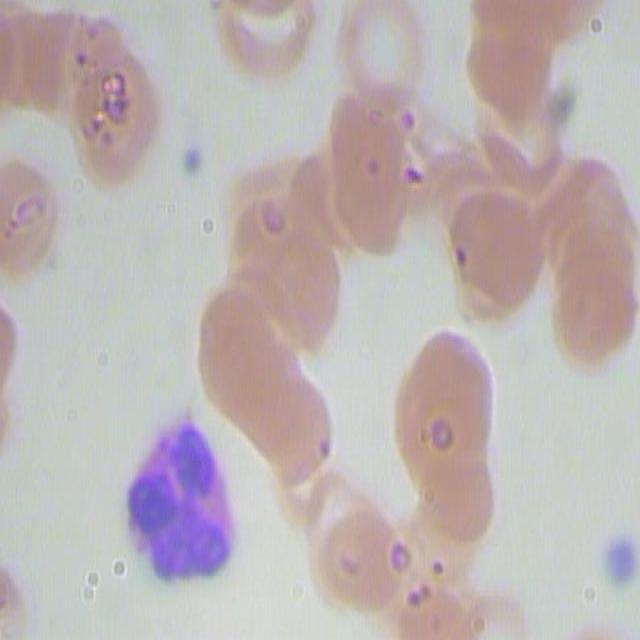RBC: (534, 146, 638, 378), (317, 74, 443, 256), (68, 2, 164, 192), (391, 330, 498, 487), (291, 482, 409, 616), (467, 3, 584, 136), (442, 185, 547, 324), (230, 200, 342, 330), (199, 286, 308, 401), (334, 0, 436, 115), (208, 0, 327, 80), (0, 154, 59, 282)
WBC: (111, 415, 242, 589)
platelets: (597, 521, 640, 602), (173, 133, 209, 187)
